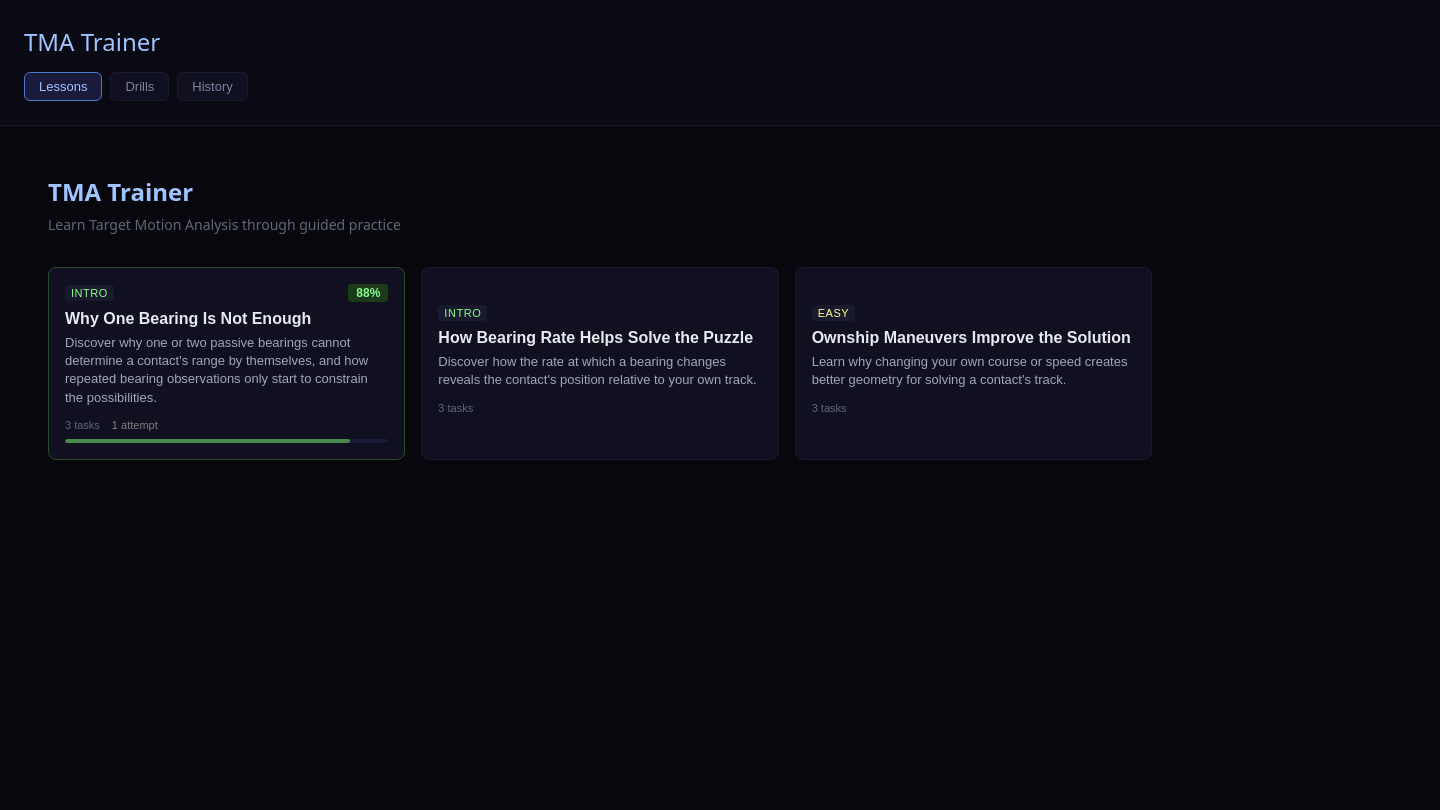
Test case: Lesson end-to-end workflow › contact panel shows detected contact with expandable details
What coordinates should you click on to do the following:
click the button "Why One Bearing Is Not Enough"
I would click on:
 (227, 363)
Its box is 48,267 -> 405,460.
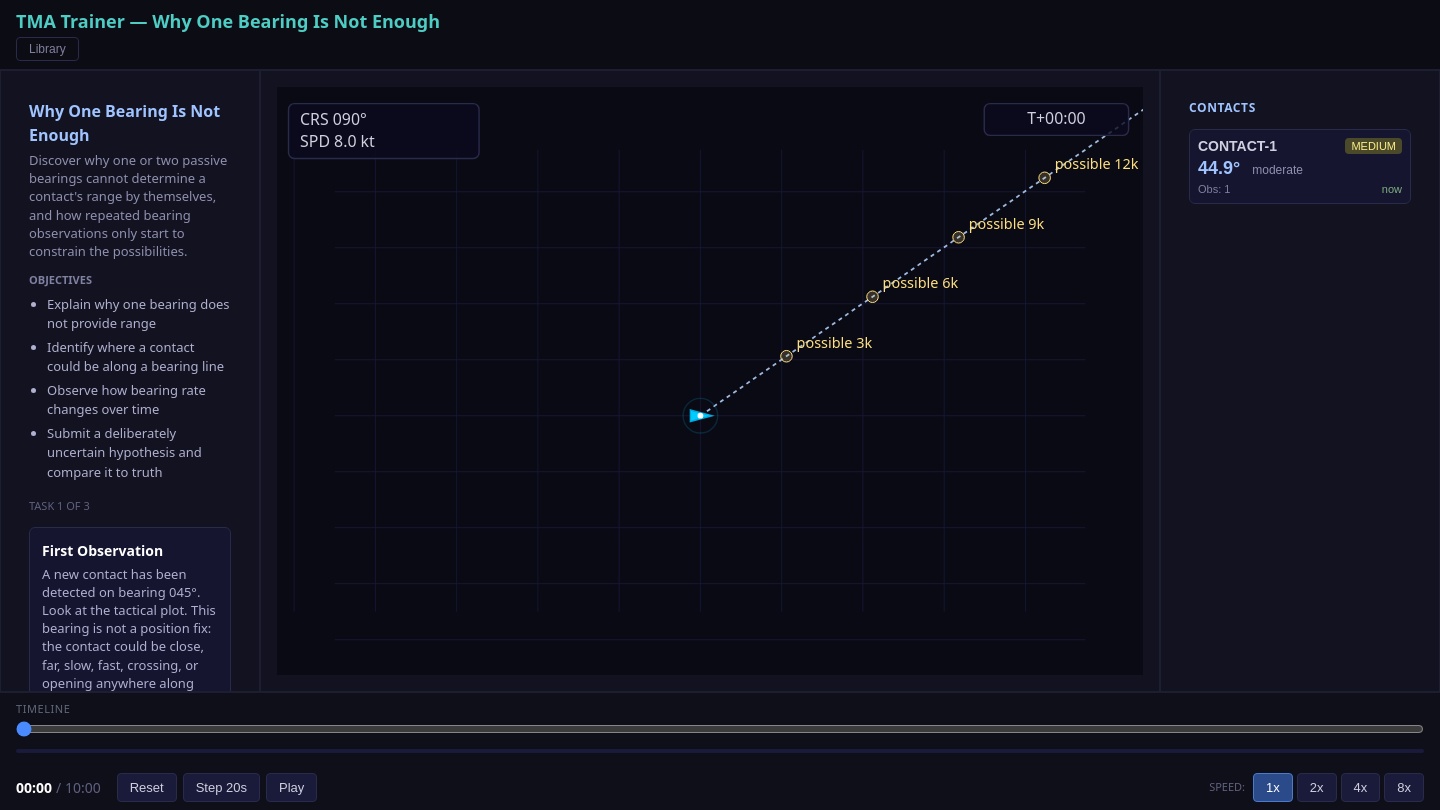
Expected: the text "CONTACT-1" is shown
What coordinates should you click on to do the following:
click the text "CONTACT-1"
I would click on:
 (1238, 146)
Its box is 1198,138 -> 1277,154.
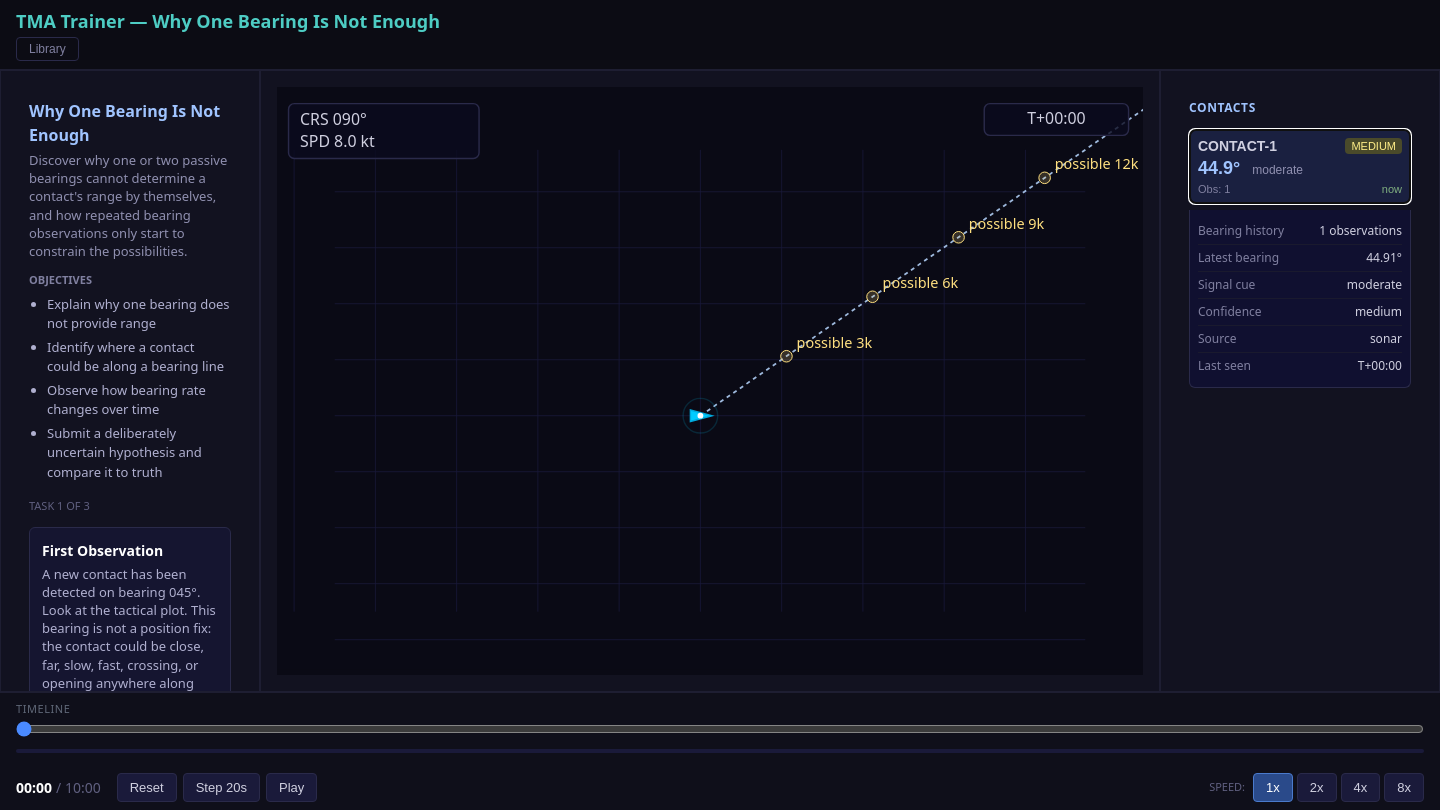
Expected: the text "Bearing history" is shown, 1198,222 -> 1284,240
Expected: the text "Source" is shown, 1198,330 -> 1236,348
